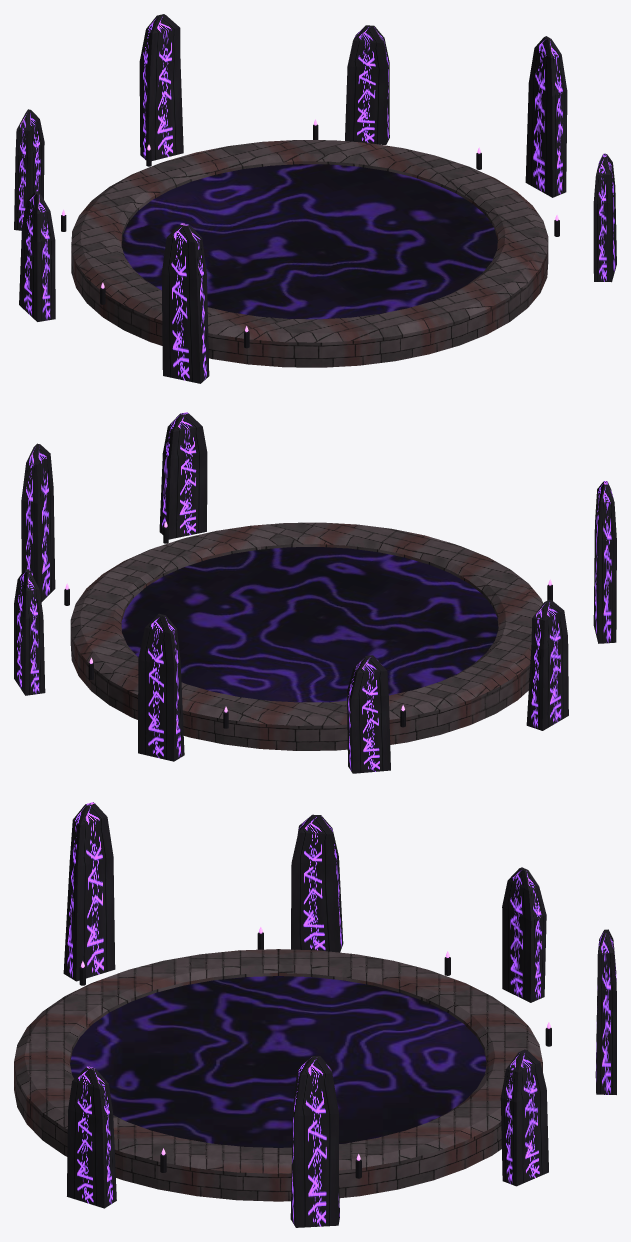
The model's file is heart_pool.glb.
3 renders of one model, top to bottom at view 1: azimuth 30°, elevation 25°; view 2: azimuth 150°, elevation 25°; view 3: azimuth 270°, elevation 25°, orthographic. The views are drawn at different scales.
Visible parts, largest first — view 1: PoolMirror, PoolRim, HeartStones, HeartCandles; view 2: PoolMirror, PoolRim, HeartStones, HeartCandles; view 3: PoolMirror, PoolRim, HeartStones, HeartCandles.
Part boxes in pixels (x1=…): PoolMirror: x1=121, y1=164, x2=497, y2=319; PoolRim: x1=71, y1=140, x2=548, y2=367; HeartStones: x1=14, y1=14, x2=616, y2=383; HeartCandles: x1=61, y1=124, x2=559, y2=348; PoolMirror: x1=121, y1=547, x2=498, y2=702; PoolRim: x1=70, y1=522, x2=543, y2=750; HeartStones: x1=14, y1=412, x2=616, y2=773; HeartCandles: x1=64, y1=526, x2=552, y2=728; PoolMirror: x1=70, y1=976, x2=486, y2=1147; PoolRim: x1=14, y1=949, x2=542, y2=1201; HeartStones: x1=63, y1=802, x2=616, y2=1227; HeartCandles: x1=79, y1=932, x2=551, y2=1178.
Size of what is drawn, in the model's own units: 12.82 by 3.6 by 11.4.
Materials: 5 (4 with a texture image).
